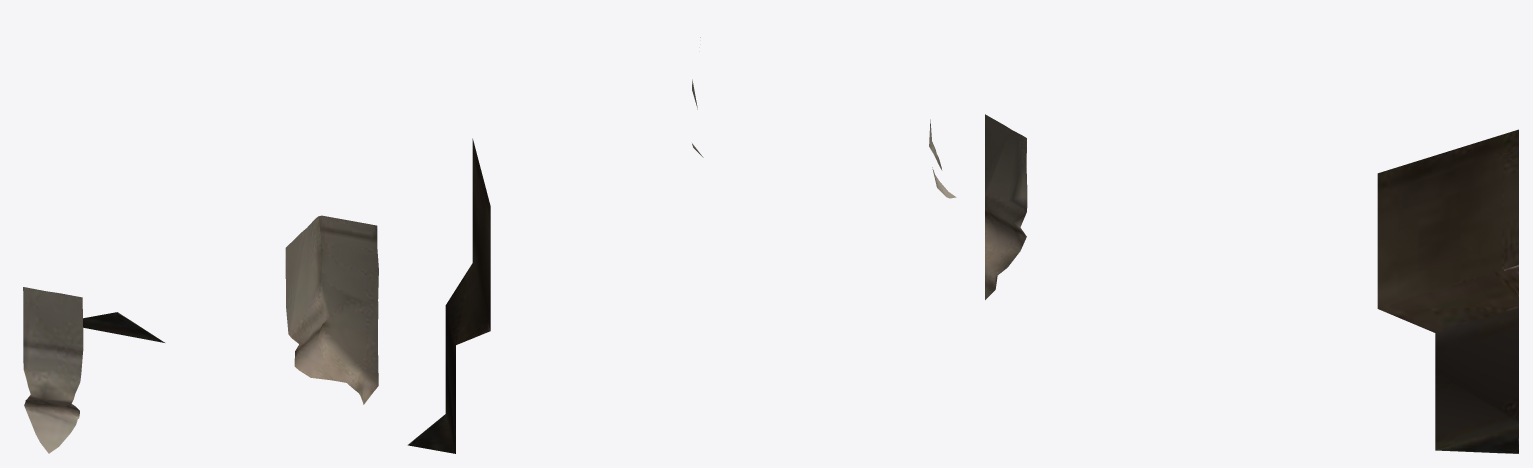
3 renders of one model, left to right at view 1: azimuth 30°, elevation 25°; view 2: azimuth 150°, elevation 25°; view 3: azimuth 270°, elevation 25°, orthographic. The views are drawn at different scales.
Size of the model in its own units: 1.27 by 1.04 by 1.79.
Materials: 1 (1 with a texture image).
